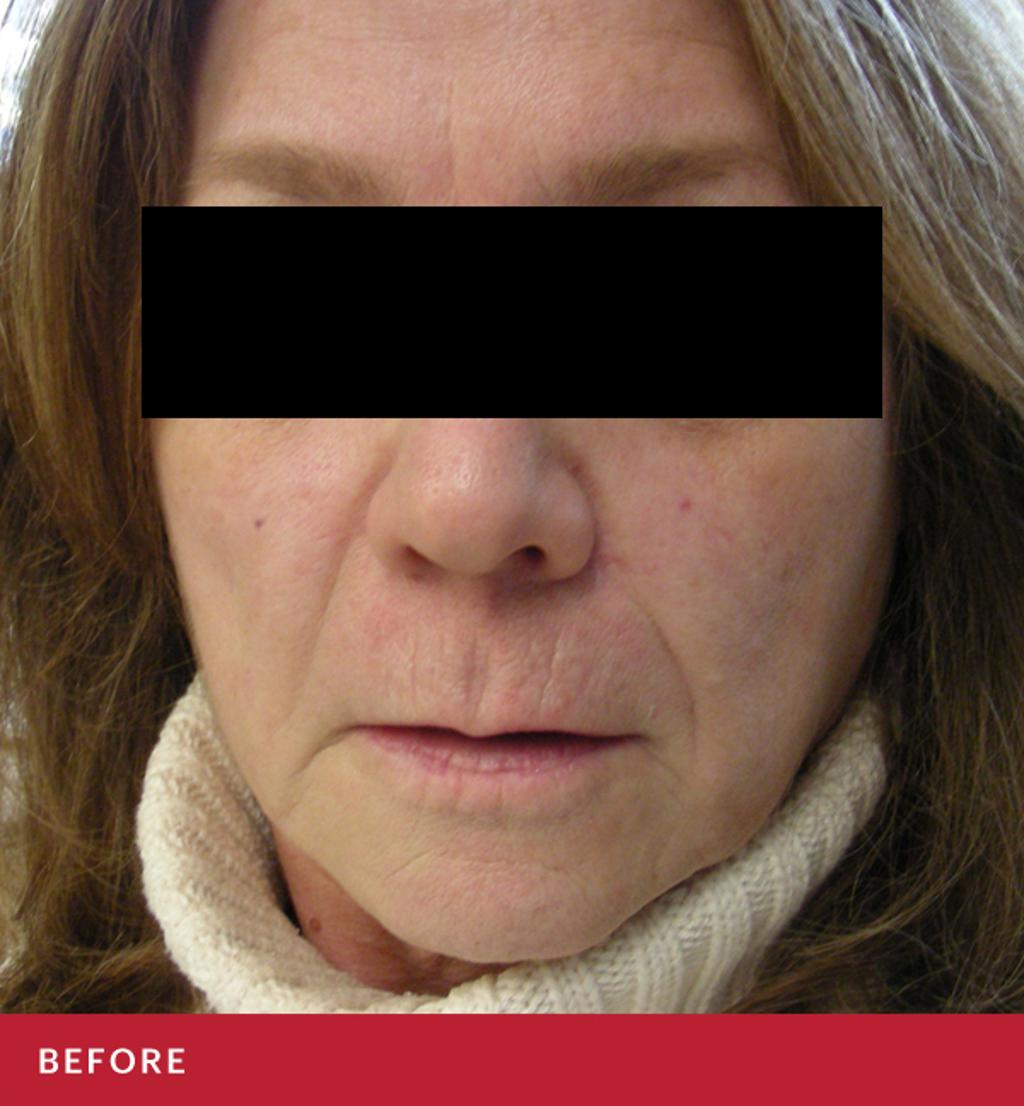face: (156, 9, 908, 964)
